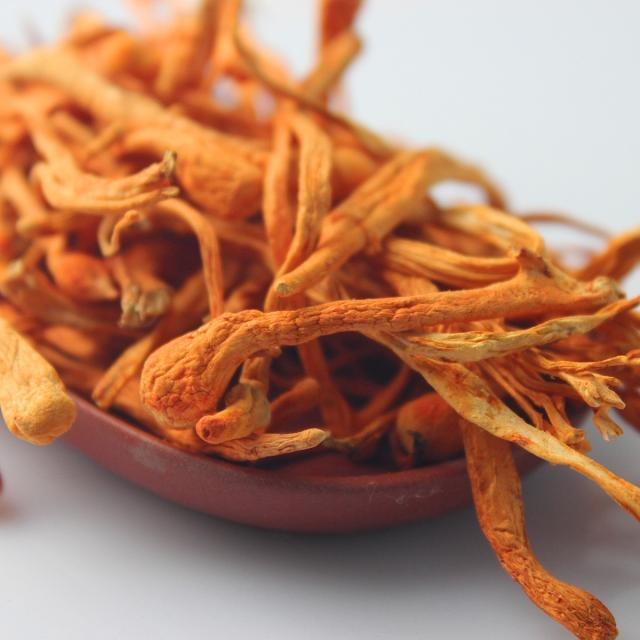Cordyceps militaris: (0, 8, 639, 629)
